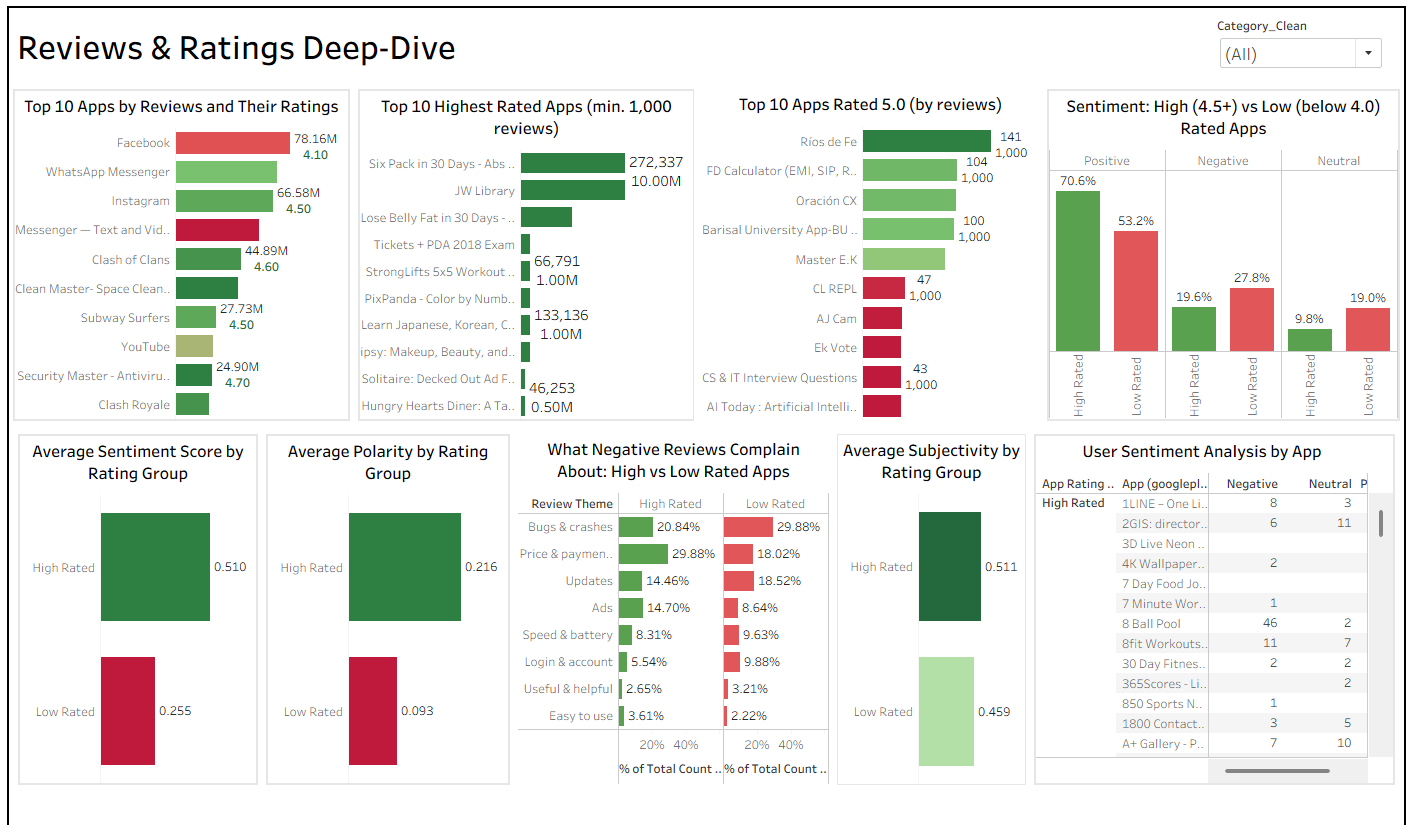

The dashboard page shown, as its layout file describes it:
{"tool":"tableau","page":{"name":"Dashboard 4","canvas":[1400,800],"ordinal":3},"visuals":[{"type":"text","box":[2,2,1395,77]},{"type":"filter","title":"sentiment distributionA4 ","param":"[federated.019ev5d0986adr167u6dm0snf7zb].[none:Calculation_0197685440053249:nk]","box":[1210,11,168,56]},{"type":"worksheet","title":"higest review and ratingM8","mark":"Automatic","rows":["Calculation_1377737077878849"],"cols":["Calculation_0197685500702743"],"box":[2,79,344.7,340]},{"type":"worksheet","title":"Top 10 App higest ratingA1","mark":"Bar","rows":["Calculation_0197685439774720"],"cols":["Calculation_0197685566607415"],"box":[346.7,79,344.7,340]},{"type":"worksheet","title":"Top 10 Apps Rated 5.0A1","mark":"Automatic","rows":["Calculation_0197685439774720"],"cols":["Reviews"],"box":[691.3,79,344.7,340]},{"type":"worksheet","title":"sentiment distributionA4 ","mark":"Automatic","cols":["Sentiment","Calculation_1377736988659765"],"box":[1036,79,361,340]},{"type":"worksheet","title":"Average Sentiment ScoreA4","mark":"Automatic","rows":["Calculation_1377736988659765"],"cols":["Calculation_0197685511233576"],"box":[7,424,248,359]},{"type":"worksheet","title":"Average PolarityA4","mark":"Automatic","rows":["Calculation_1377736988659765"],"cols":["Calculation_1377736998826039"],"box":[255,424,252,359]},{"type":"worksheet","title":"Review Themes A4","mark":"Automatic","rows":["Calculation_2002266276458509"],"cols":["Calculation_1377736988659765"],"box":[507,424,319,359]},{"type":"worksheet","title":"Average SubjectivityA4","mark":"Automatic","rows":["Calculation_1377736988659765"],"cols":["Calculation_1377736999813176"],"box":[826,424,197,359]},{"type":"worksheet","title":"User Sentiment AnalysisA4","mark":"Automatic","rows":["Calculation_1377736988659765","App (googleplaystore!user!reviews)"],"cols":["Sentiment"],"box":[1023,424,369,359]}]}

Visuals, with their boxes in screenshot pixels (x1, y1, x2, y2), scaled from the page's 1400x800 canvas onto the 1416x825 screenshot:
text: pyautogui.locateOnScreen(2, 2, 1413, 81)
"sentiment distributionA4 " filter: pyautogui.locateOnScreen(1224, 11, 1394, 69)
"higest review and ratingM8" worksheet: pyautogui.locateOnScreen(2, 81, 351, 432)
"Top 10 App higest ratingA1" worksheet (Bar marks): pyautogui.locateOnScreen(351, 81, 699, 432)
"Top 10 Apps Rated 5.0A1" worksheet: pyautogui.locateOnScreen(699, 81, 1048, 432)
"sentiment distributionA4 " worksheet: pyautogui.locateOnScreen(1048, 81, 1413, 432)
"Average Sentiment ScoreA4" worksheet: pyautogui.locateOnScreen(7, 437, 258, 807)
"Average PolarityA4" worksheet: pyautogui.locateOnScreen(258, 437, 513, 807)
"Review Themes A4" worksheet: pyautogui.locateOnScreen(513, 437, 835, 807)
"Average SubjectivityA4" worksheet: pyautogui.locateOnScreen(835, 437, 1035, 807)
"User Sentiment AnalysisA4" worksheet: pyautogui.locateOnScreen(1035, 437, 1408, 807)
